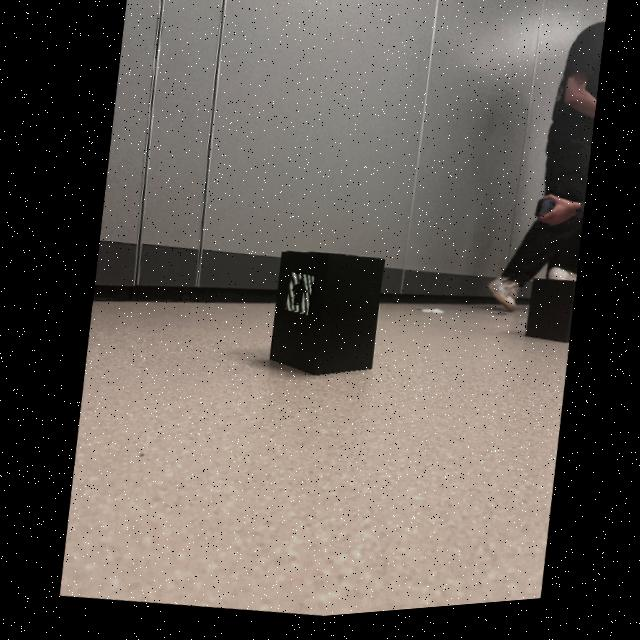UP: (289, 283, 304, 312)
